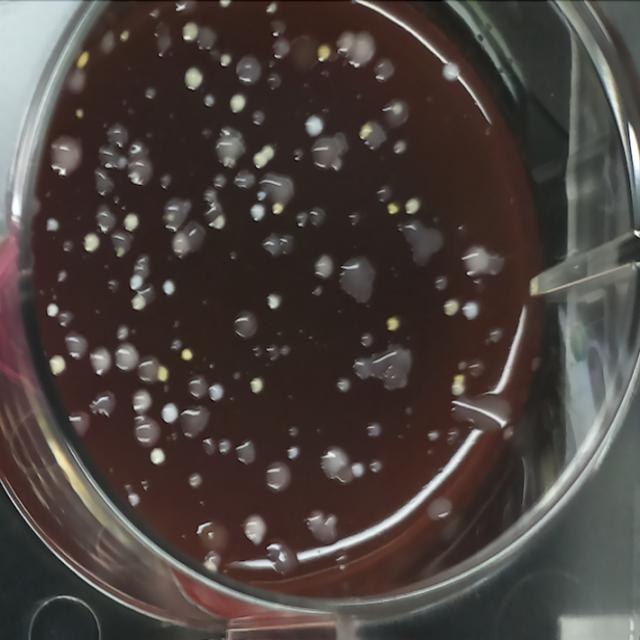Bacillus: (46, 132, 86, 180)
Pseudoalteromonas: (186, 376, 209, 402), (279, 230, 298, 258), (336, 466, 354, 485)
Staphylococcus: (180, 63, 207, 94), (302, 112, 326, 141), (47, 352, 69, 379), (441, 60, 462, 86), (159, 401, 180, 426), (81, 230, 102, 255), (206, 380, 226, 406), (180, 19, 200, 45), (461, 299, 482, 323), (228, 92, 249, 115), (74, 47, 92, 72), (316, 41, 334, 63), (123, 210, 141, 232), (248, 374, 265, 397), (384, 313, 402, 334), (154, 362, 171, 384), (210, 212, 228, 232), (448, 381, 467, 399), (160, 278, 177, 298), (178, 344, 195, 364), (252, 152, 268, 172), (128, 273, 144, 292), (44, 301, 60, 320), (261, 142, 276, 162), (72, 104, 87, 124), (385, 200, 400, 217), (254, 189, 268, 204), (452, 372, 467, 386), (270, 202, 284, 216)
